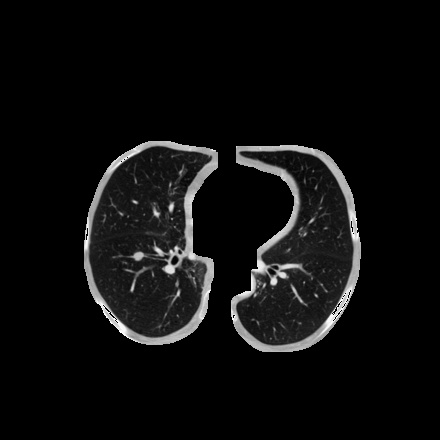PN: (133, 251, 143, 261)
